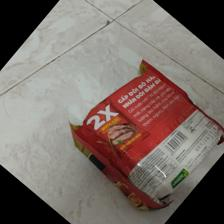3mien: (69, 58, 224, 211)
